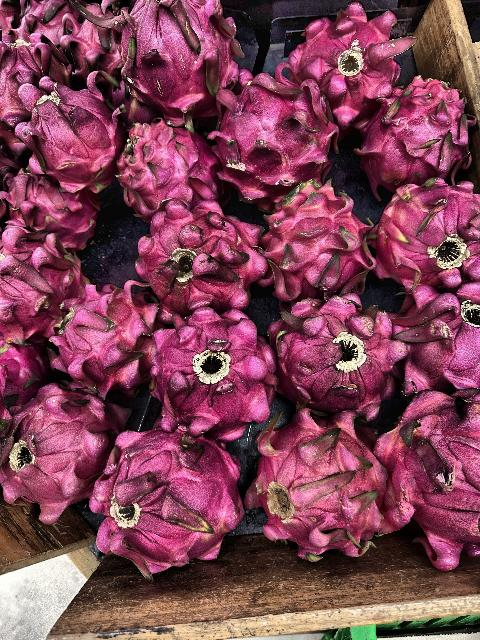buah-naga-matang: (97, 423, 247, 582), (248, 405, 390, 563), (138, 310, 284, 438), (378, 390, 480, 568), (272, 283, 402, 421), (0, 382, 116, 520), (210, 65, 332, 192), (100, 0, 232, 116), (260, 175, 368, 299), (138, 202, 262, 308), (11, 80, 126, 190), (364, 73, 474, 185), (366, 179, 480, 285), (294, 5, 404, 114), (42, 292, 150, 392), (398, 284, 480, 394), (0, 230, 78, 340), (118, 123, 212, 211), (0, 172, 92, 255)
